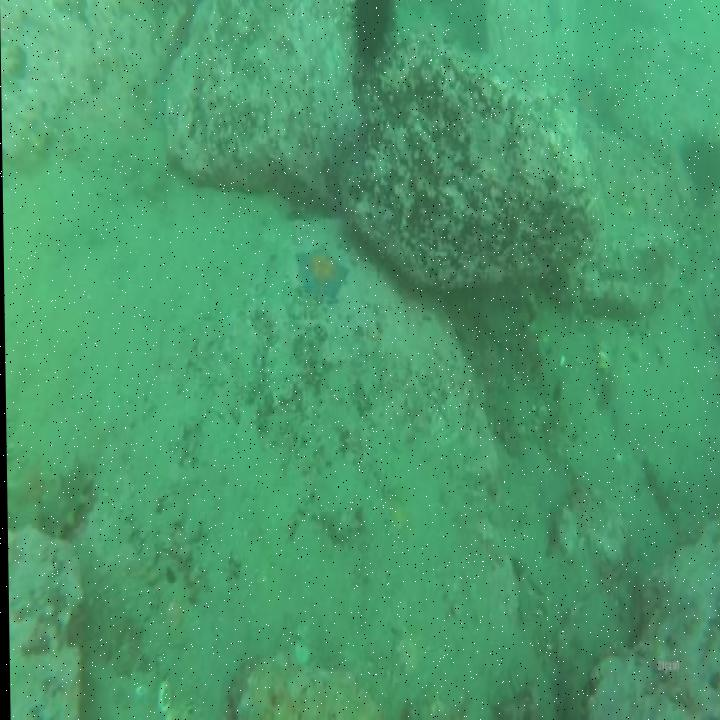echinus: (352, 2, 394, 68), (686, 139, 720, 199)
holothurian: (43, 464, 92, 533)
starfish: (295, 246, 346, 300), (572, 68, 607, 115)
